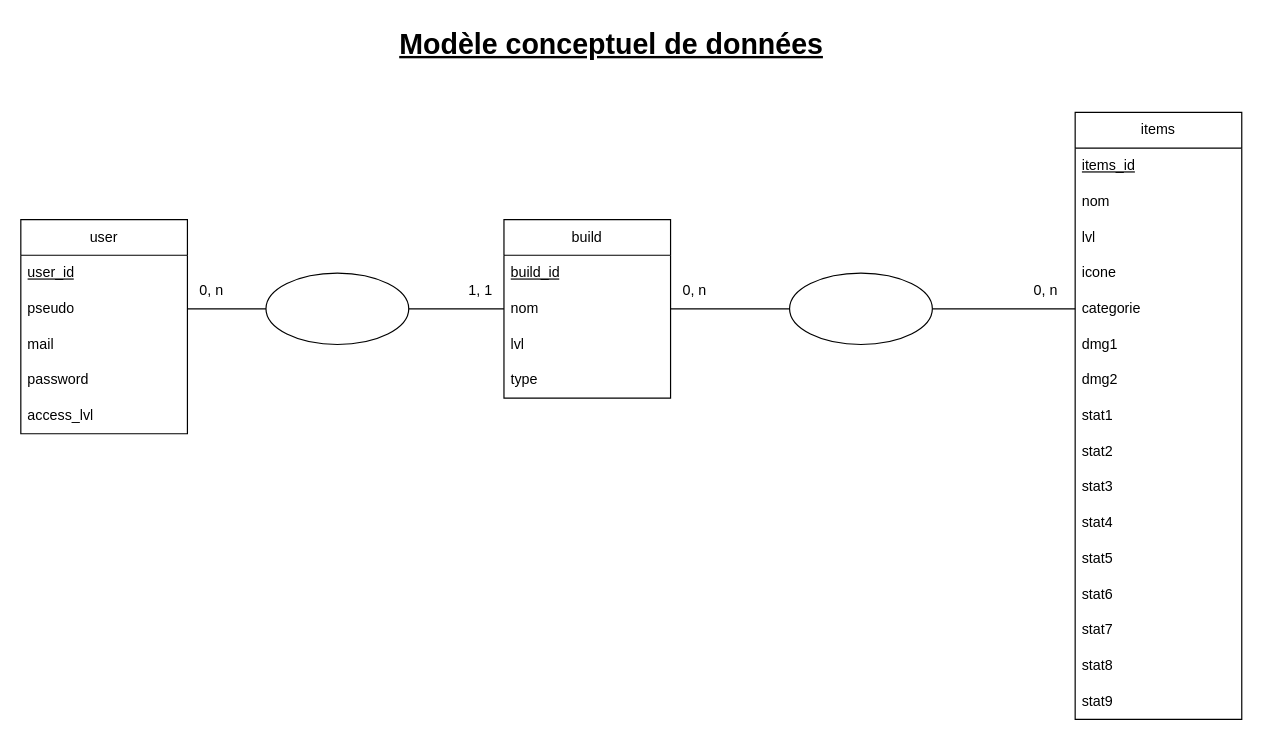
This 1263x740 diagram has some shape labels left out. The centre of each missing label's shape, as x and y in pixels:
"Contenir" goes at point (860, 308).
"Posseder" goes at point (337, 308).
